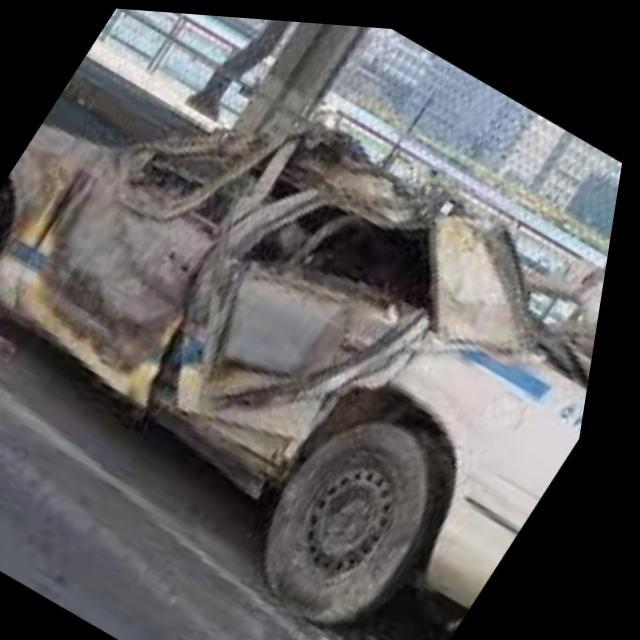crash: (0, 108, 451, 451)
